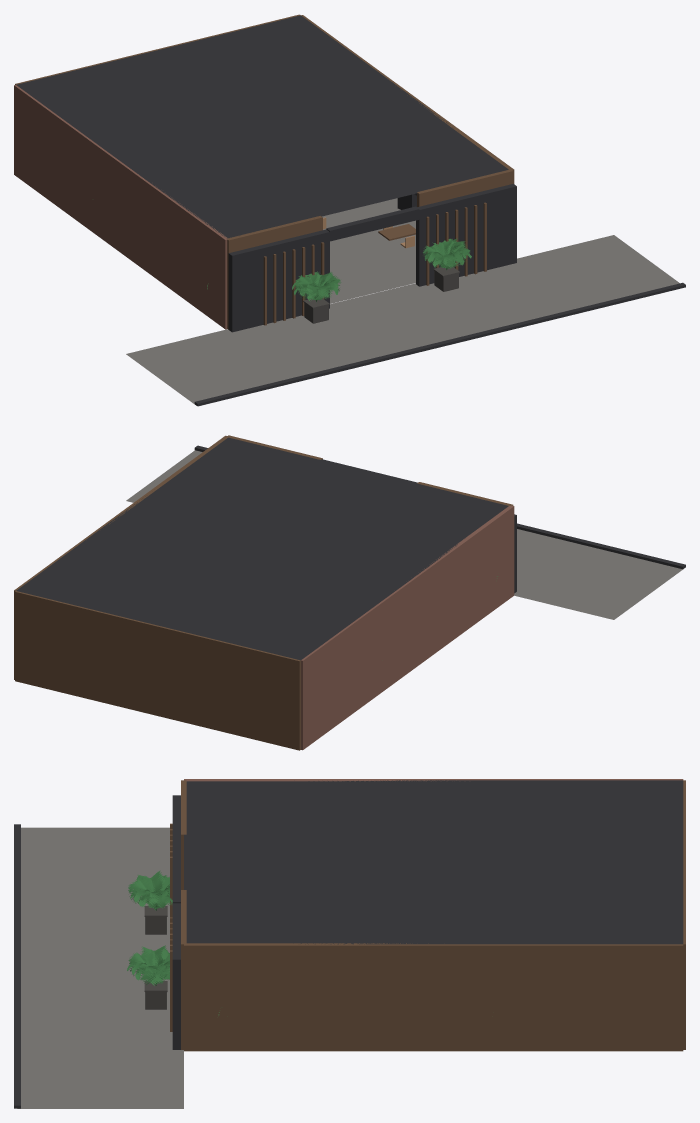
File: blockout.glb
3 views of the same model, one above another, from view 1: azimuth 30°, elevation 25°; view 2: azimuth 150°, elevation 25°; view 3: azimuth 270°, elevation 25° (orthographic). The views are drawn at different scales.
Visible parts, largest first — view 1: ceiling, sidewalk, wall_left, facade_l, facade_r, floor, kerb, wall_front, wall_front_r, facade_top, palm_right_fronds, palm_left_fronds (+1 smaller); view 2: ceiling, wall_back, wall_left, sidewalk, kerb, wall_right; view 3: ceiling, wall_right, sidewalk, kerb, facade_r, palm_right_fronds, palm_left_fronds, wall_left, wall_back, wall_front_r, palm_left_pot, palm_right_pot (+1 smaller).
Part boxes in pixels (x1,y1,x2,y2): ceiling: (16,15,508,238); sidewalk: (126,235,679,404); wall_left: (14,85,227,329); facade_l: (228,229,329,332); facade_r: (416,183,516,286); floor: (322,198,415,303); kerb: (194,282,685,406); wall_front: (227,216,322,329); wall_front_r: (417,170,513,206); facade_top: (326,206,419,241); palm_right_fronds: (423,238,471,270); palm_left_fronds: (292,271,341,301); ceiling: (16,437,508,660); wall_back: (15,591,300,750); wall_left: (301,505,514,750); sidewalk: (126,450,683,619); kerb: (194,445,685,569); wall_right: (14,435,227,679); ceiling: (184,780,683,944); wall_right: (184,943,683,1051); sidewalk: (17,827,183,1108); kerb: (14,824,20,1108); facade_r: (172,903,180,1049); palm_right_fronds: (127,945,169,985); palm_left_fronds: (128,870,172,910); wall_left: (184,779,683,781); wall_back: (683,780,685,1049); wall_front_r: (181,890,186,1049); palm_left_pot: (145,906,166,934); palm_right_pot: (145,981,166,1009).
Bounding box in the file's own units: 24 × 4.21 × 24.23.
